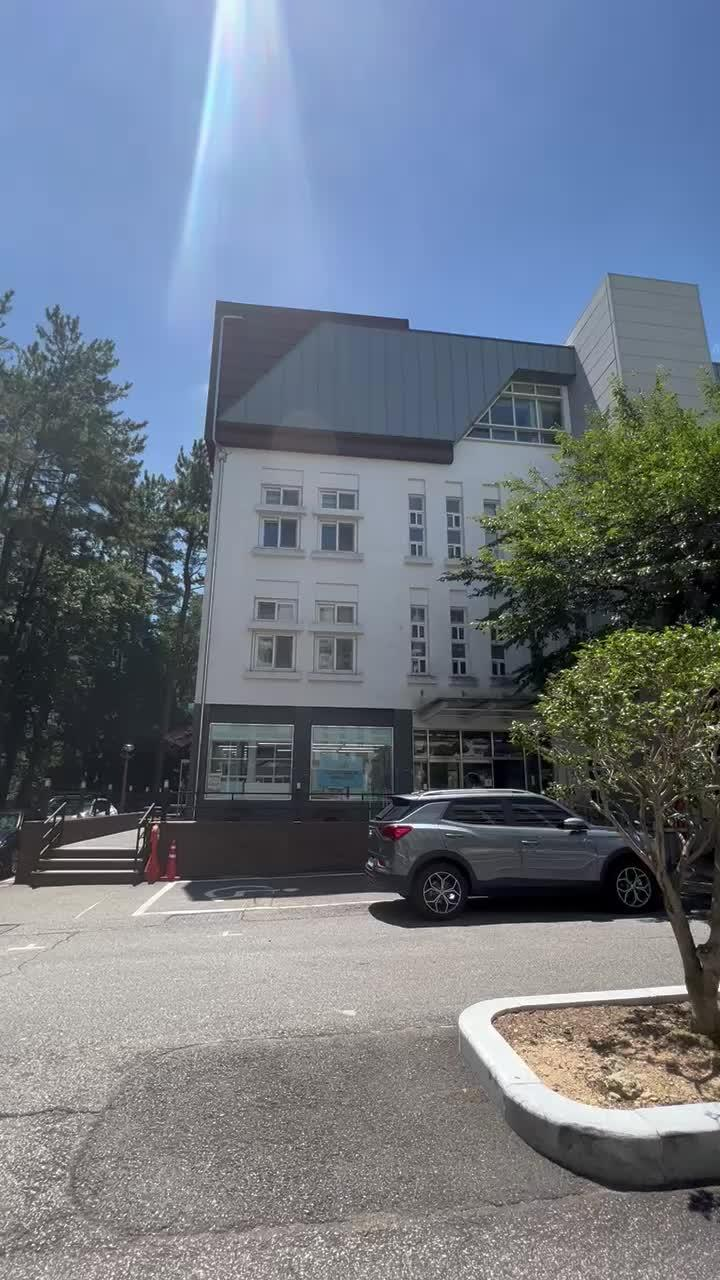building: (174, 296, 526, 796)
